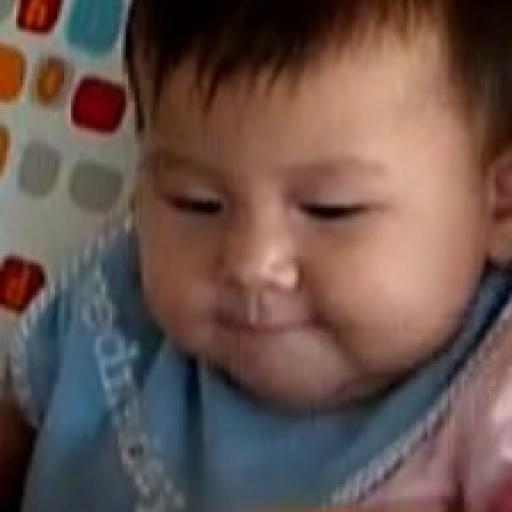Autism: (116, 0, 494, 435)
